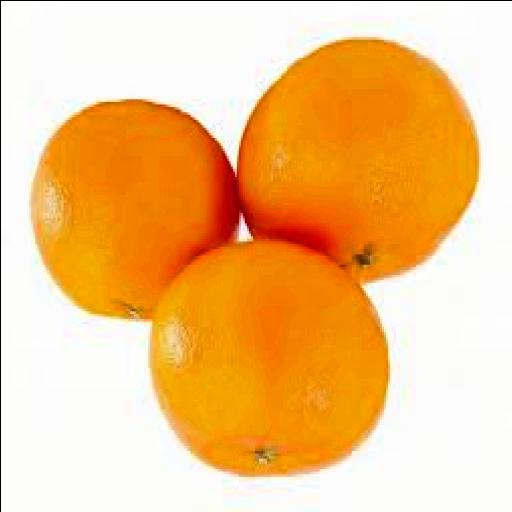orange: (238, 39, 477, 279), (150, 241, 387, 475), (31, 101, 235, 318)
